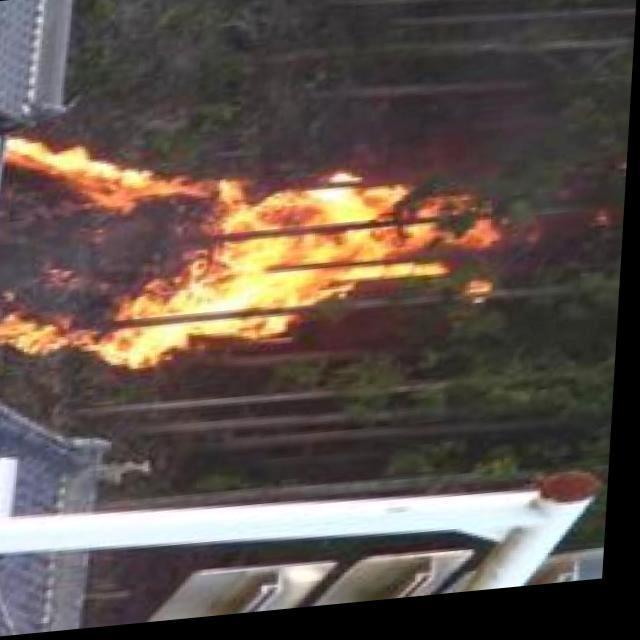fire: (0, 111, 508, 381)
